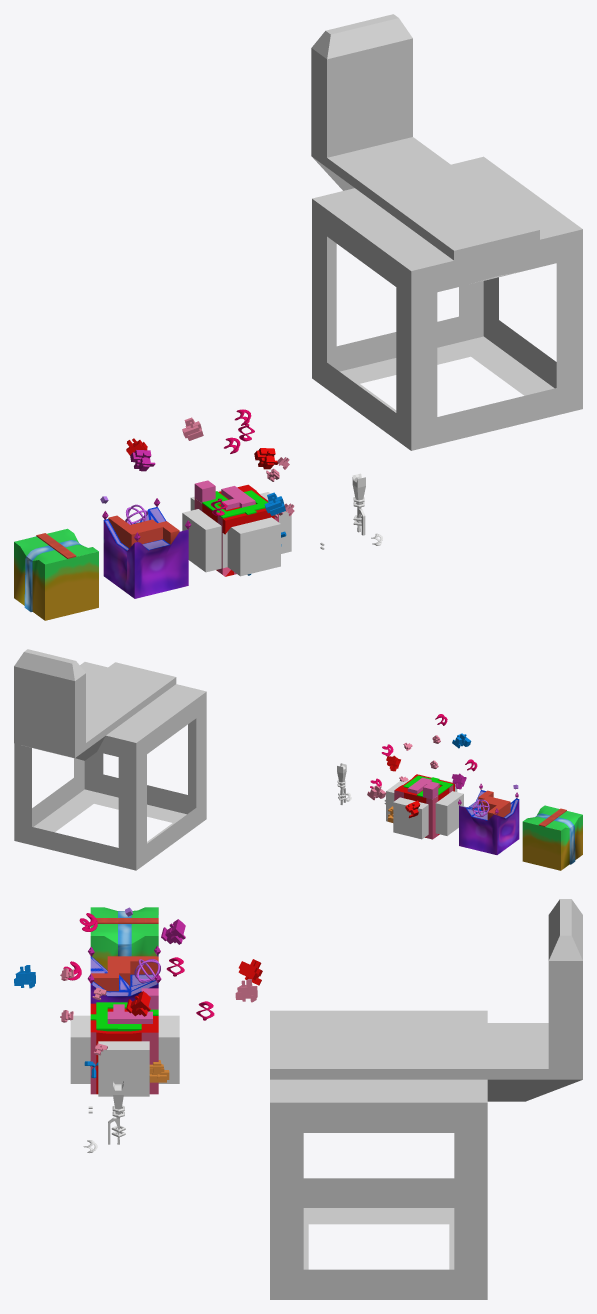
3 renders of one model, top to bottom at view 1: azimuth 30°, elevation 25°; view 2: azimuth 150°, elevation 25°; view 3: azimuth 270°, elevation 25°, orthographic. The views are drawn at different scales.
Parts seen in each view (by area): view 1: Cube, Level 1, Level 2, Cube.007, Level 3; view 2: Cube, Level 1, Level 2, Cube.007, Level 3, Torus.004; view 3: Cube, Cube.007, Level 3, Level 1, Level 2, Torus.004.
Part boxes in pixels (x1,y1,x2,y2): Cube: (311, 14, 582, 450); Level 1: (14, 528, 98, 620); Level 2: (103, 507, 188, 598); Cube.007: (182, 490, 291, 576); Level 3: (194, 480, 278, 576); Cube: (14, 649, 206, 870); Level 1: (522, 805, 582, 870); Level 2: (459, 790, 519, 854); Cube.007: (386, 776, 463, 839); Level 3: (394, 774, 454, 839); Torus.004: (337, 763, 346, 804); Cube: (270, 899, 582, 1299); Cube.007: (70, 1015, 179, 1096); Level 3: (90, 988, 158, 1094); Level 1: (90, 907, 158, 970); Level 2: (90, 955, 158, 1003); Torus.004: (108, 1081, 125, 1144).
Size of the model in its own units: 13856 by 6678 by 10018.
